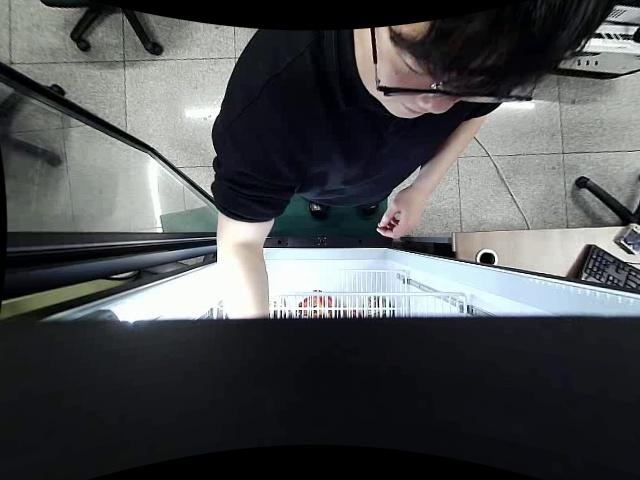00_hand: (375, 188, 423, 241)
